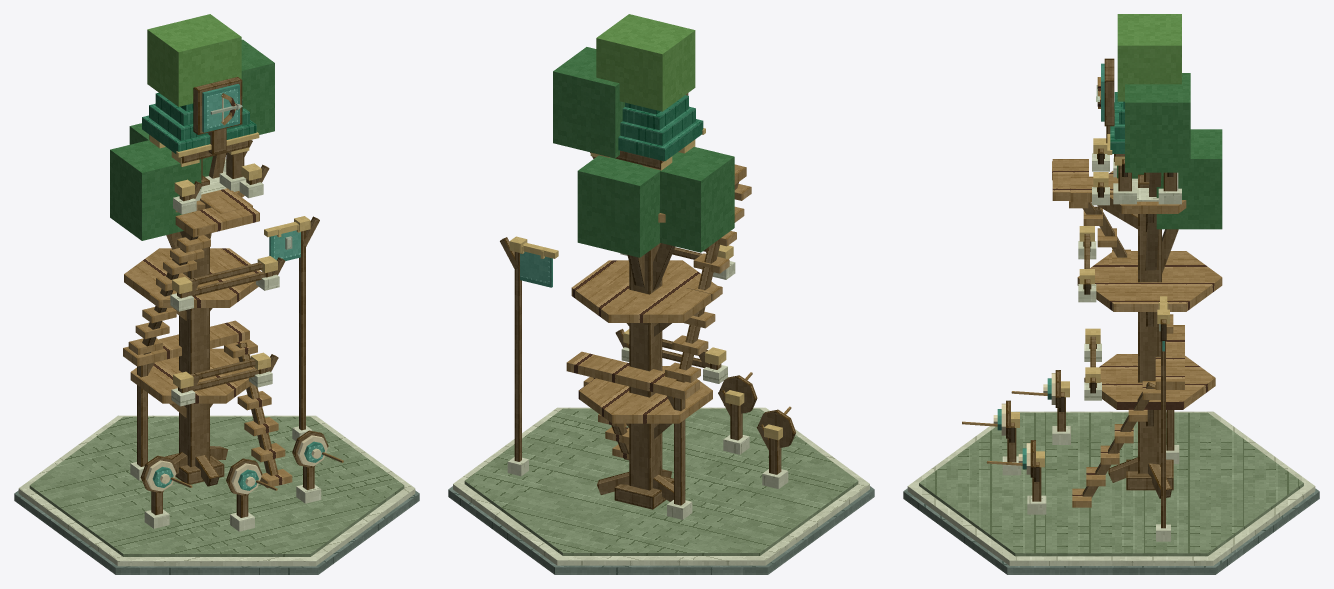
File: elf_ranger_mastery_hex_v1.glb
3 renders of one model, left to right at view 1: azimuth 30°, elevation 25°; view 2: azimuth 150°, elevation 25°; view 3: azimuth 270°, elevation 25°, orthographic. The views are drawn at different scales.
Visible parts, largest first — view 1: Elf_Ranger_Mastery_Hex_V1_Foundation, Elf_Ranger_Mastery_Hex_V1_Focus, Elf_Ranger_Mastery_Hex_V1_Courtyard, Elf_Ranger_Mastery_Hex_V1_Faction, Elf_Ranger_Mastery_Hex_V1_Training, Elf_Ranger_Mastery_Hex_V1_Roofs, Elf_Ranger_Mastery_Hex_V1_Hall; view 2: Elf_Ranger_Mastery_Hex_V1_Foundation, Elf_Ranger_Mastery_Hex_V1_Focus, Elf_Ranger_Mastery_Hex_V1_Courtyard, Elf_Ranger_Mastery_Hex_V1_Roofs, Elf_Ranger_Mastery_Hex_V1_Training, Elf_Ranger_Mastery_Hex_V1_Faction, Elf_Ranger_Mastery_Hex_V1_Hall; view 3: Elf_Ranger_Mastery_Hex_V1_Foundation, Elf_Ranger_Mastery_Hex_V1_Focus, Elf_Ranger_Mastery_Hex_V1_Courtyard, Elf_Ranger_Mastery_Hex_V1_Training, Elf_Ranger_Mastery_Hex_V1_Faction, Elf_Ranger_Mastery_Hex_V1_Hall, Elf_Ranger_Mastery_Hex_V1_Roofs.
Part boxes in pixels (x1,y1,x2,y2): Elf_Ranger_Mastery_Hex_V1_Foundation: (14, 415, 419, 574); Elf_Ranger_Mastery_Hex_V1_Focus: (110, 14, 274, 486); Elf_Ranger_Mastery_Hex_V1_Courtyard: (123, 163, 292, 488); Elf_Ranger_Mastery_Hex_V1_Faction: (193, 77, 319, 440); Elf_Ranger_Mastery_Hex_V1_Training: (140, 430, 343, 531); Elf_Ranger_Mastery_Hex_V1_Roofs: (142, 92, 259, 157); Elf_Ranger_Mastery_Hex_V1_Hall: (149, 135, 252, 200); Elf_Ranger_Mastery_Hex_V1_Foundation: (448, 407, 874, 574); Elf_Ranger_Mastery_Hex_V1_Focus: (553, 14, 734, 509); Elf_Ranger_Mastery_Hex_V1_Courtyard: (566, 164, 751, 519); Elf_Ranger_Mastery_Hex_V1_Roofs: (618, 95, 705, 161); Elf_Ranger_Mastery_Hex_V1_Training: (718, 372, 795, 488); Elf_Ranger_Mastery_Hex_V1_Faction: (500, 93, 688, 476); Elf_Ranger_Mastery_Hex_V1_Hall: (590, 139, 695, 170); Elf_Ranger_Mastery_Hex_V1_Foundation: (903, 411, 1319, 574); Elf_Ranger_Mastery_Hex_V1_Focus: (1077, 14, 1222, 498); Elf_Ranger_Mastery_Hex_V1_Courtyard: (1052, 138, 1184, 507); Elf_Ranger_Mastery_Hex_V1_Training: (962, 370, 1070, 514); Elf_Ranger_Mastery_Hex_V1_Faction: (1096, 58, 1170, 541); Elf_Ranger_Mastery_Hex_V1_Hall: (1113, 154, 1181, 204); Elf_Ranger_Mastery_Hex_V1_Roofs: (1107, 92, 1124, 154).
Size of the model in its own units: 1.59 by 2.28 by 1.84.
1 material, 1 textured.
